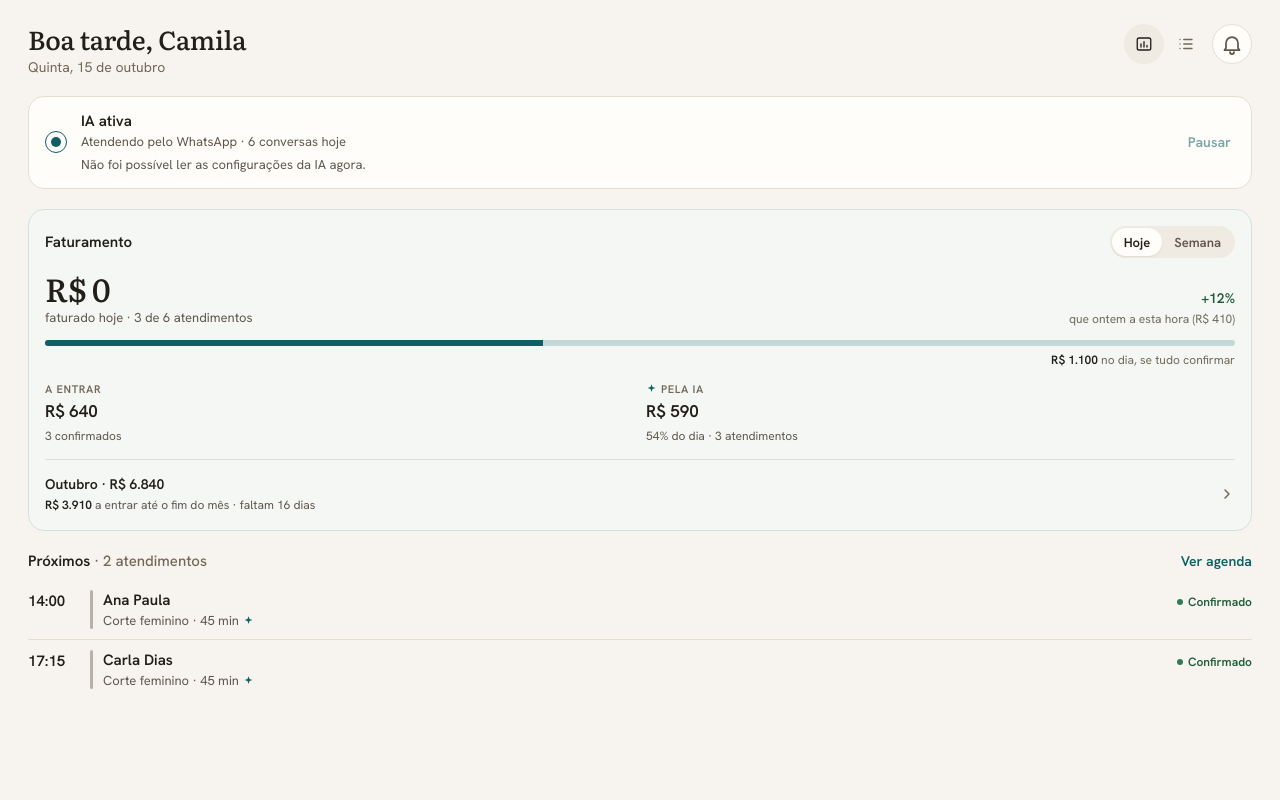
Test: 1b · Painel do dia no celular › Semana alterna de verdade: total, colunas por dia e o que veio pela IA
Click the button "Semana": (1198, 242) [1162,228,1233,256]
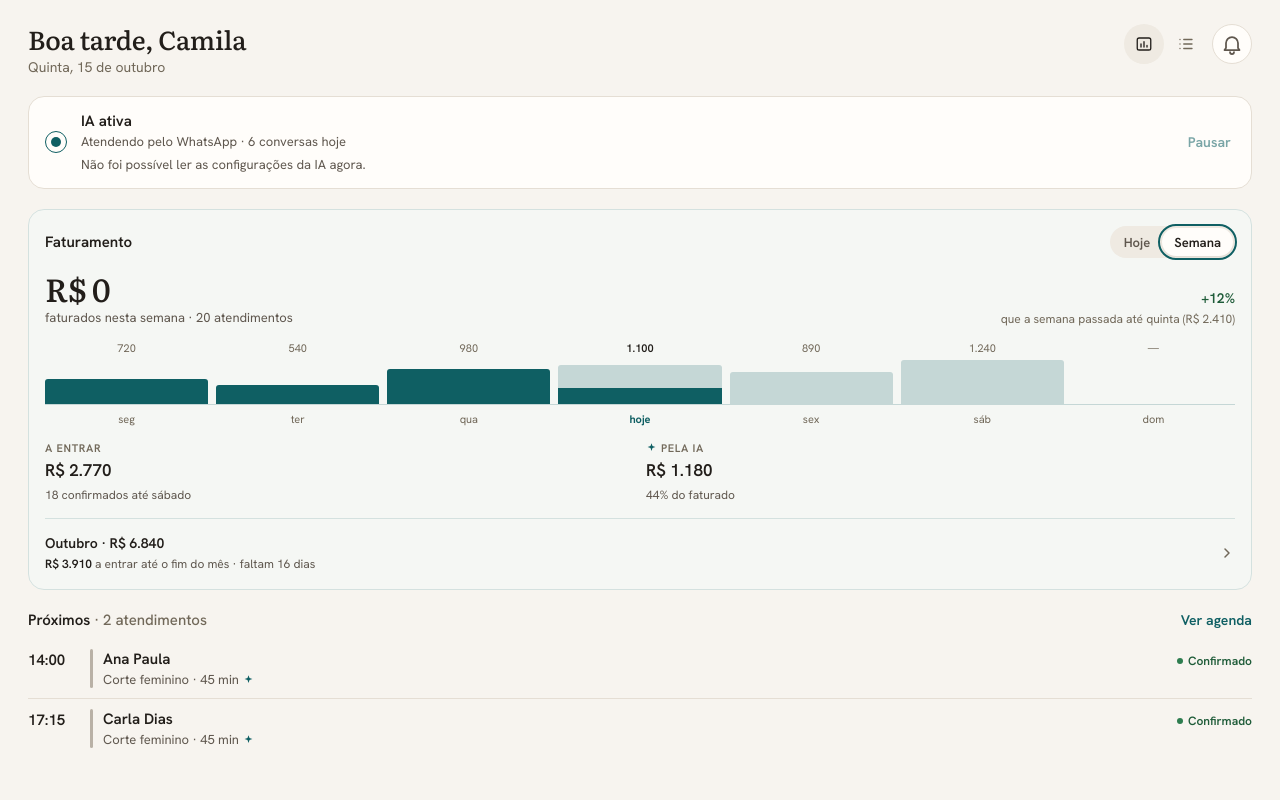
Check: the list item "1.100" is shown, box [558,340,722,404]
Check: the element "Faturamento" shows "faturados nesta semana · 20 atendimentos", box [45,309,293,326]
Check: the number of list items is 7
